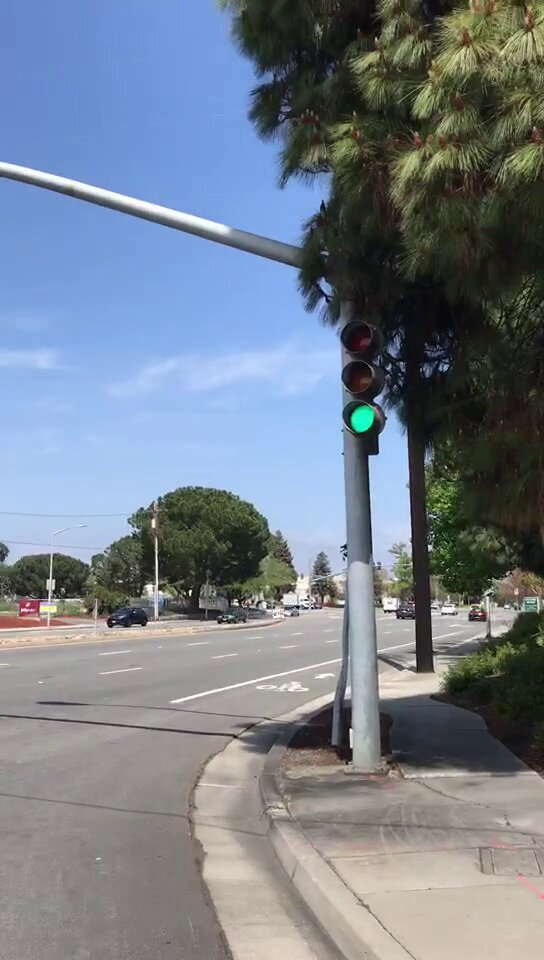green_light: (339, 319, 382, 435)
